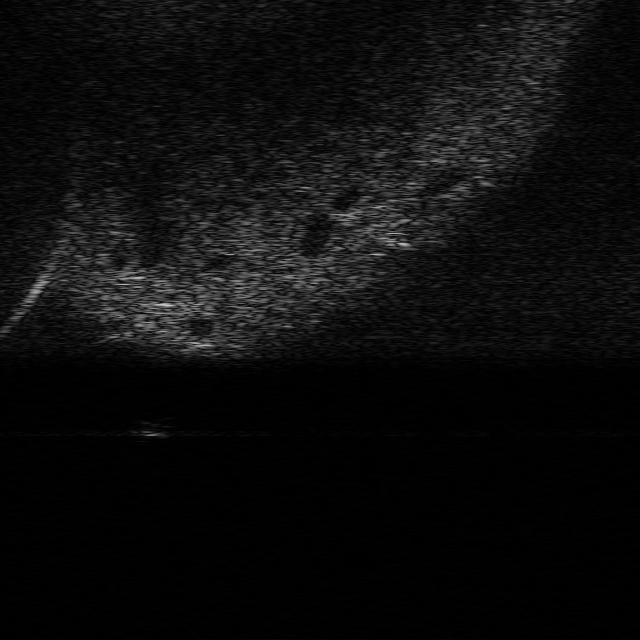cube: (130, 418, 171, 440)
